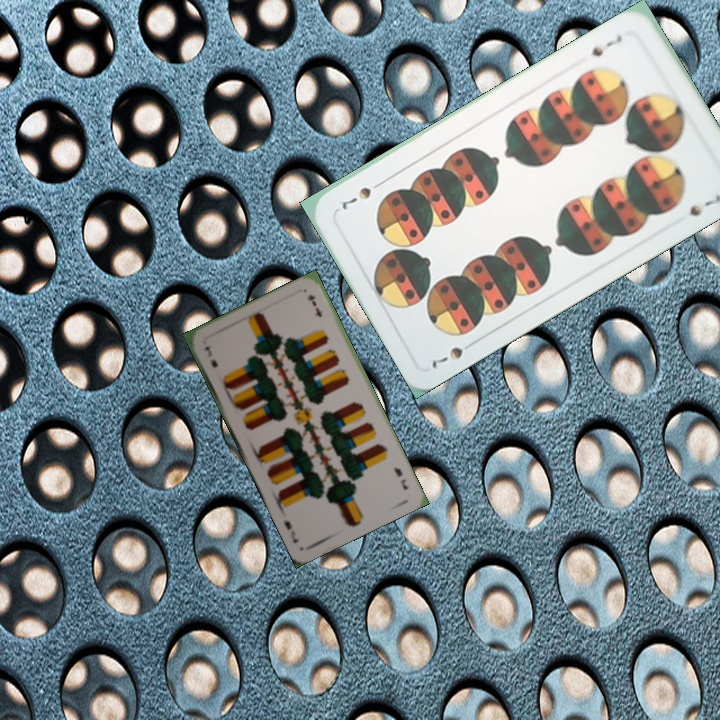E7: (390, 463, 411, 492), (200, 342, 220, 370)
S7: (427, 336, 480, 371), (587, 31, 625, 59)
